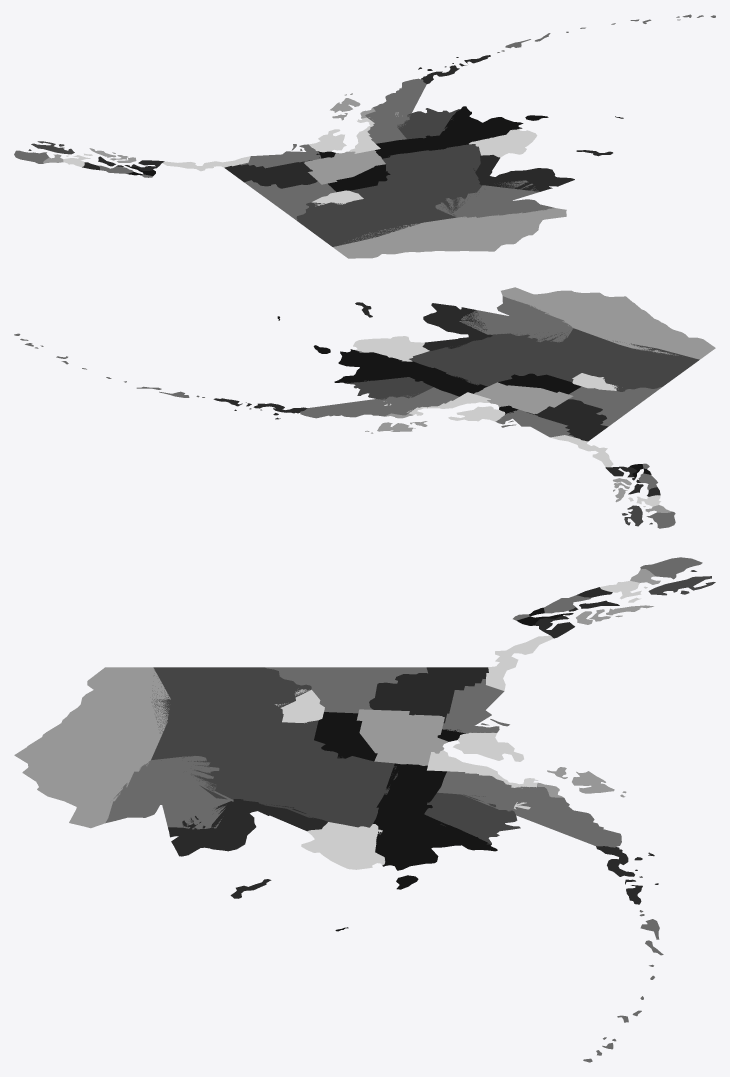
Rendered from Alaska_Boroughs_Census_Areas_2D.fbx.
3 views of the same model, one above another, from view 1: azimuth 30°, elevation 25°; view 2: azimuth 150°, elevation 25°; view 3: azimuth 270°, elevation 25° (orthographic). The views are drawn at different scales.
Parts seen in each view (by area): view 1: AK_Yukon_Koyukuk_Census_Area_2D, AK_North_Slope_Borough_2D, AK_Bethel_Census_Area_2D, AK_Northwest_Arctic_Borough_2D, AK_Lake_And_Peninsula_Borough_2D, AK_Nome_Census_Area_2D, AK_Matanuska_Susitna_Borough_2D, AK_Copper_River_Census_Area_2D, AK_Southeast_Fairbanks_Census_Area_2D, AK_Dillingham_Census_Area_2D, AK_Kusilvak_Census_Area_2D, AK_Kenai_Peninsula_Borough_2D (+6 smaller); view 2: AK_Yukon_Koyukuk_Census_Area_2D, AK_North_Slope_Borough_2D, AK_Bethel_Census_Area_2D, AK_Northwest_Arctic_Borough_2D, AK_Lake_And_Peninsula_Borough_2D, AK_Nome_Census_Area_2D, AK_Matanuska_Susitna_Borough_2D, AK_Southeast_Fairbanks_Census_Area_2D, AK_Copper_River_Census_Area_2D, AK_Dillingham_Census_Area_2D, AK_Kusilvak_Census_Area_2D, AK_Kenai_Peninsula_Borough_2D (+7 smaller); view 3: AK_Yukon_Koyukuk_Census_Area_2D, AK_North_Slope_Borough_2D, AK_Bethel_Census_Area_2D, AK_Northwest_Arctic_Borough_2D, AK_Lake_And_Peninsula_Borough_2D, AK_Nome_Census_Area_2D, AK_Matanuska_Susitna_Borough_2D, AK_Southeast_Fairbanks_Census_Area_2D, AK_Copper_River_Census_Area_2D, AK_Dillingham_Census_Area_2D, AK_Kusilvak_Census_Area_2D, AK_Kenai_Peninsula_Borough_2D (+7 smaller).
Part boxes in pixels (x1,y1,x2,y2): AK_Yukon_Koyukuk_Census_Area_2D: (296, 144, 482, 246); AK_North_Slope_Borough_2D: (333, 208, 566, 258); AK_Bethel_Census_Area_2D: (375, 106, 623, 158); AK_Northwest_Arctic_Borough_2D: (435, 180, 554, 217); AK_Lake_And_Peninsula_Borough_2D: (365, 78, 426, 143); AK_Nome_Census_Area_2D: (473, 150, 612, 191); AK_Matanuska_Susitna_Borough_2D: (304, 150, 385, 184); AK_Copper_River_Census_Area_2D: (224, 160, 317, 188); AK_Southeast_Fairbanks_Census_Area_2D: (244, 180, 336, 220); AK_Dillingham_Census_Area_2D: (397, 108, 458, 139); AK_Kusilvak_Census_Area_2D: (469, 128, 537, 157); AK_Kenai_Peninsula_Borough_2D: (309, 117, 380, 153); AK_Yukon_Koyukuk_Census_Area_2D: (409, 328, 699, 391); AK_North_Slope_Borough_2D: (501, 287, 715, 359); AK_Bethel_Census_Area_2D: (277, 316, 487, 396); AK_Northwest_Arctic_Borough_2D: (459, 296, 573, 342); AK_Lake_And_Peninsula_Borough_2D: (300, 387, 459, 418); AK_Nome_Census_Area_2D: (355, 302, 492, 350); AK_Matanuska_Susitna_Borough_2D: (474, 382, 573, 414); AK_Southeast_Fairbanks_Census_Area_2D: (568, 386, 661, 426); AK_Copper_River_Census_Area_2D: (526, 399, 608, 441); AK_Dillingham_Census_Area_2D: (345, 377, 433, 399); AK_Kusilvak_Census_Area_2D: (353, 336, 429, 361); AK_Kenai_Peninsula_Borough_2D: (407, 392, 505, 421); AK_Yukon_Koyukuk_Census_Area_2D: (151, 667, 397, 827); AK_North_Slope_Borough_2D: (14, 667, 170, 828); AK_Bethel_Census_Area_2D: (335, 763, 497, 931); AK_Northwest_Arctic_Borough_2D: (105, 756, 233, 829); AK_Lake_And_Peninsula_Borough_2D: (437, 771, 621, 847); AK_Nome_Census_Area_2D: (168, 799, 327, 898); AK_Matanuska_Susitna_Borough_2D: (356, 709, 448, 765); AK_Southeast_Fairbanks_Census_Area_2D: (265, 667, 427, 713); AK_Copper_River_Census_Area_2D: (369, 667, 488, 723); AK_Dillingham_Census_Area_2D: (424, 792, 520, 844); AK_Kusilvak_Census_Area_2D: (301, 822, 385, 869); AK_Kenai_Peninsula_Borough_2D: (427, 732, 538, 788).
Size of the model in its own units: 946 by 0 by 556.
